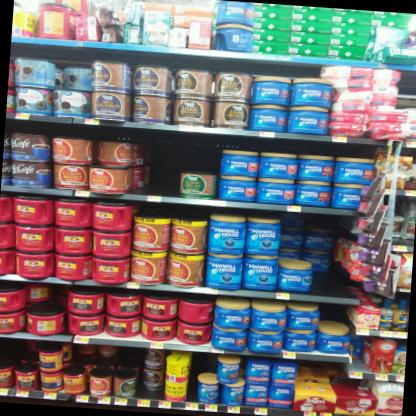empty_space: (128, 128, 179, 197)
